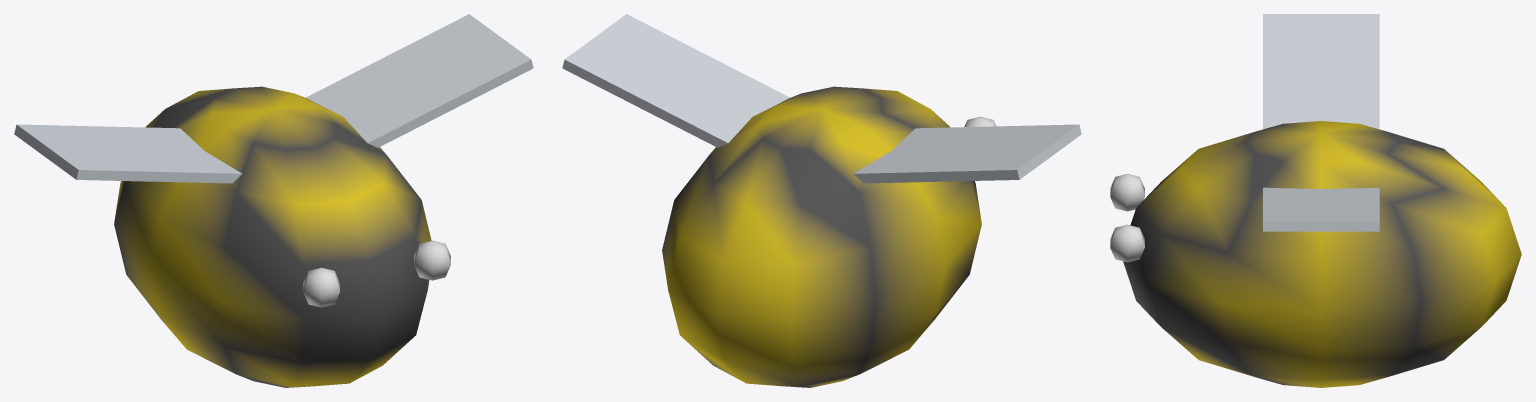
Rendered from bee.glb.
3 views of the same model, side by side, from view 1: azimuth 30°, elevation 25°; view 2: azimuth 150°, elevation 25°; view 3: azimuth 270°, elevation 25° (orthographic). The views are drawn at different scales.
Parts seen in each view (by area): view 1: BeeBody, WingsMesh; view 2: BeeBody, WingsMesh; view 3: BeeBody, WingsMesh.
Part boxes in pixels (<box>): BeeBody: <box>114,86,450,387</box>; WingsMesh: <box>14,14,533,183</box>; BeeBody: <box>662,86,995,387</box>; WingsMesh: <box>562,14,1081,183</box>; BeeBody: <box>1110,121,1521,387</box>; WingsMesh: <box>1263,14,1379,231</box>.
Bounding box in the file's own units: 0.1486 × 0.0851 × 0.1232.
